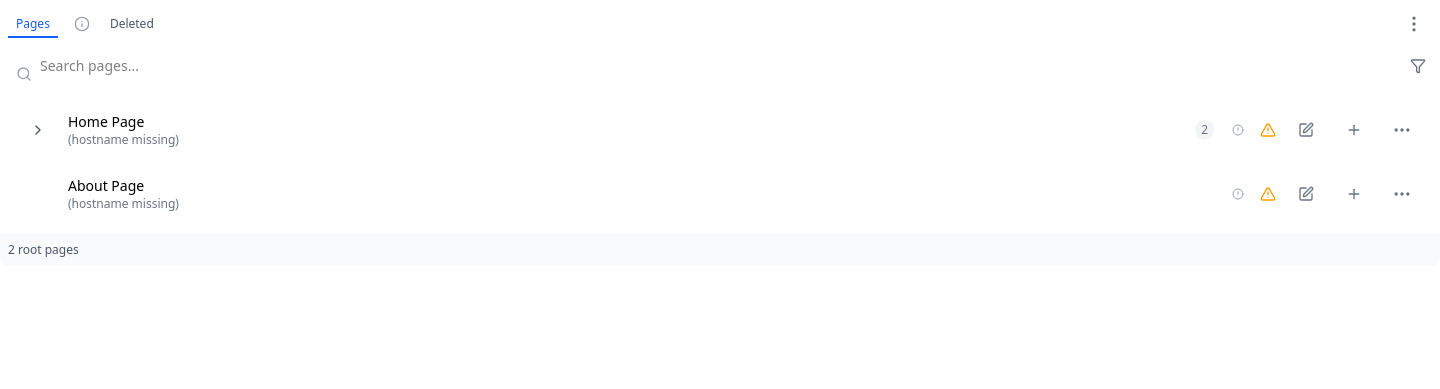
TreePageManager › keeps expansion state when a status filter hides a branch
Check: the button "Home Page" is shown, box [68, 112, 144, 132]
Click the button named "Expand Home Page" at (38, 130), box [16, 108, 60, 152]
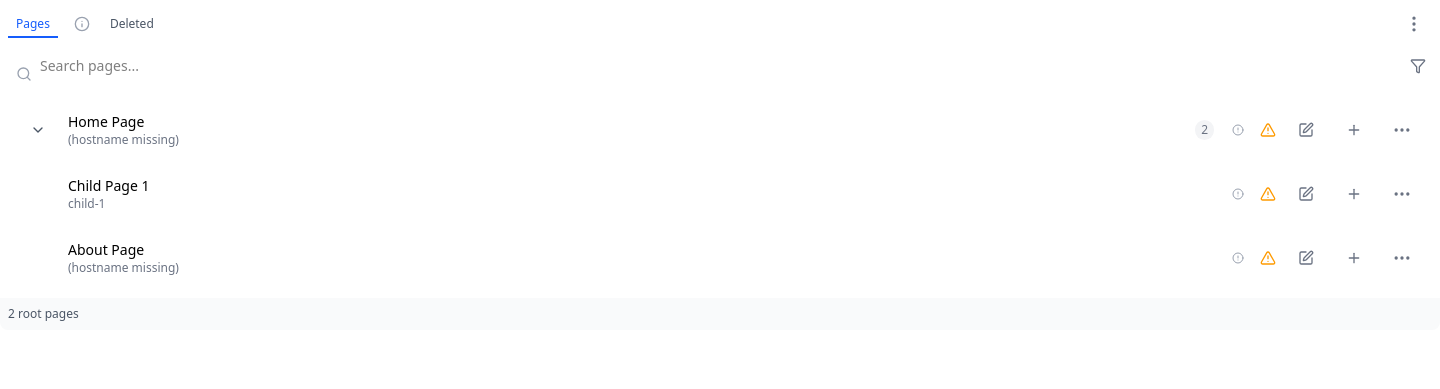
Check: the button "Child Page 1" is shown, box [68, 176, 150, 196]
Click the button with test id "filter-button" at (1418, 66), box [1404, 52, 1432, 80]
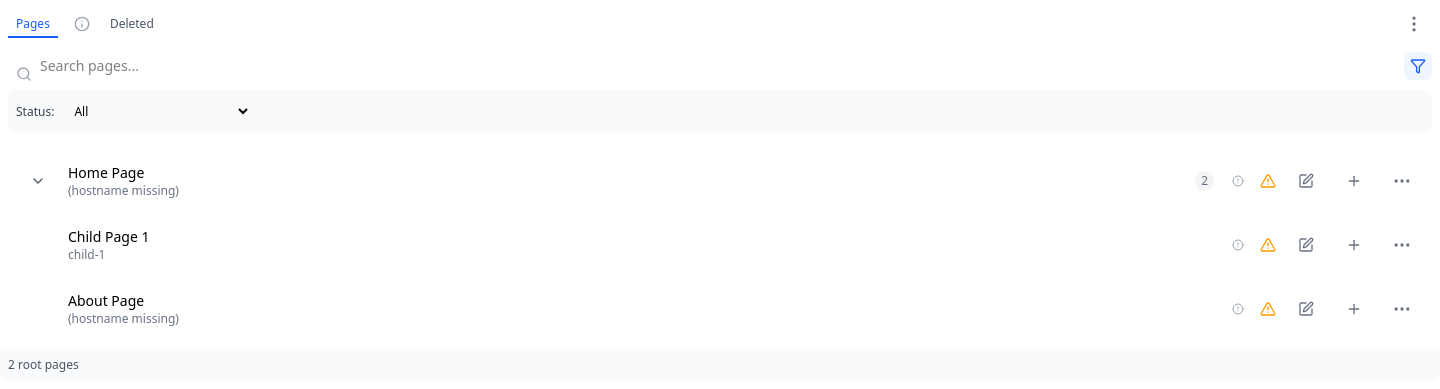
Select "Live" in the dropdown showing "All" at (157, 112), box [62, 98, 251, 125]
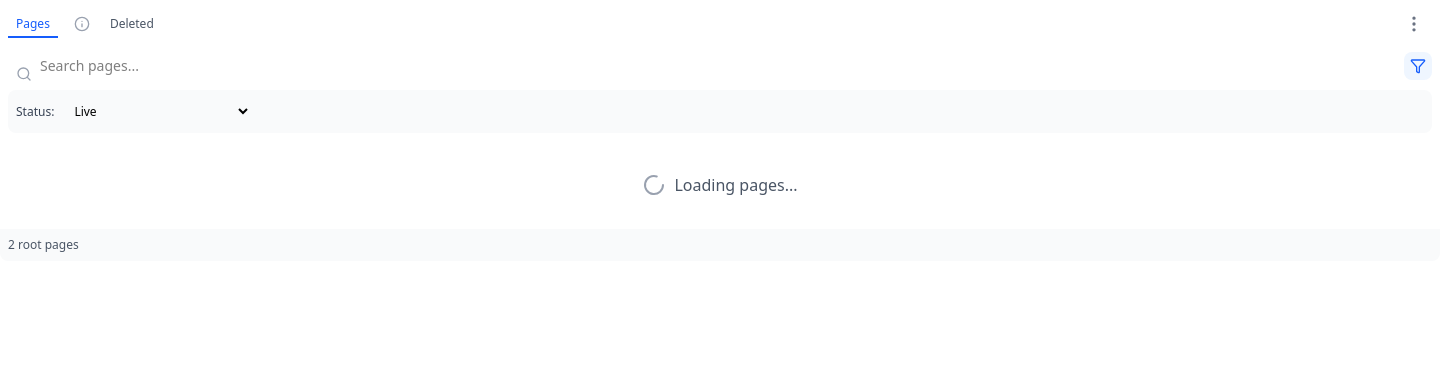
Check: the button "Home Page" is gone
Select "All" in the dropdown showing "Live" at (157, 112), box [62, 98, 251, 125]
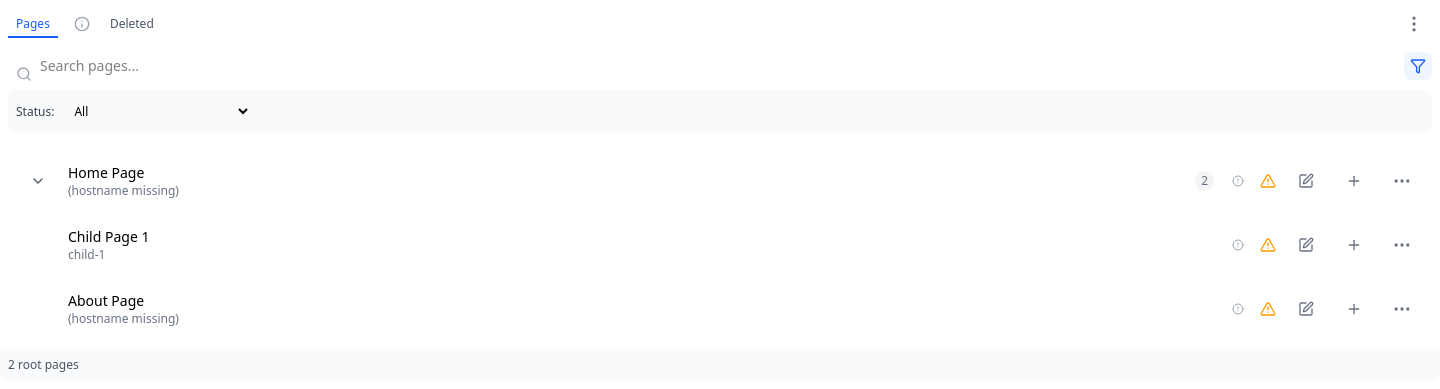
Check: the button named "Collapse Home Page" is shown, box [16, 159, 60, 203]
Check: the button "Child Page 1" is shown, box [68, 227, 150, 247]
